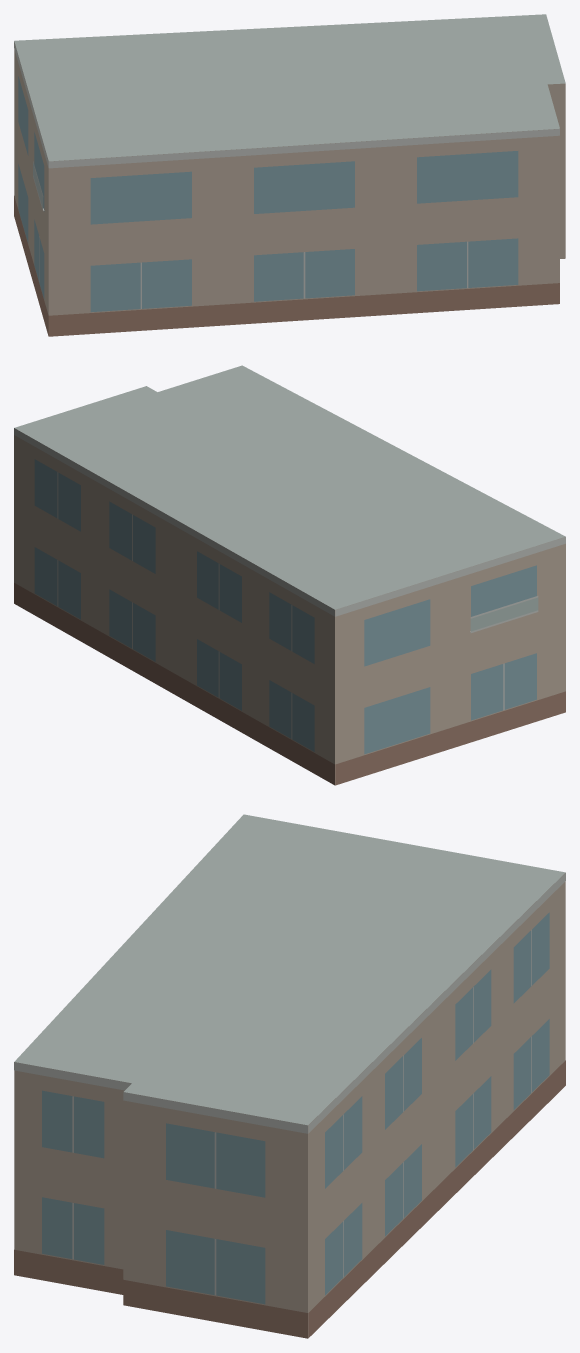
File: survey-upis-32708281.glb
3 renders of one model, top to bottom at view 1: azimuth 30°, elevation 25°; view 2: azimuth 150°, elevation 25°; view 3: azimuth 270°, elevation 25°, orthographic. The views are drawn at different scales.
Visible parts, largest first — view 1: survey-upis-32708281.tmp; view 2: survey-upis-32708281.tmp; view 3: survey-upis-32708281.tmp.
Part boxes in pixels (bbox=[...]): survey-upis-32708281.tmp: bbox=[14, 14, 565, 336]; survey-upis-32708281.tmp: bbox=[14, 365, 565, 785]; survey-upis-32708281.tmp: bbox=[14, 814, 565, 1338].
Bounding box in the file's own units: 19.09 × 6.1 × 14.31.
